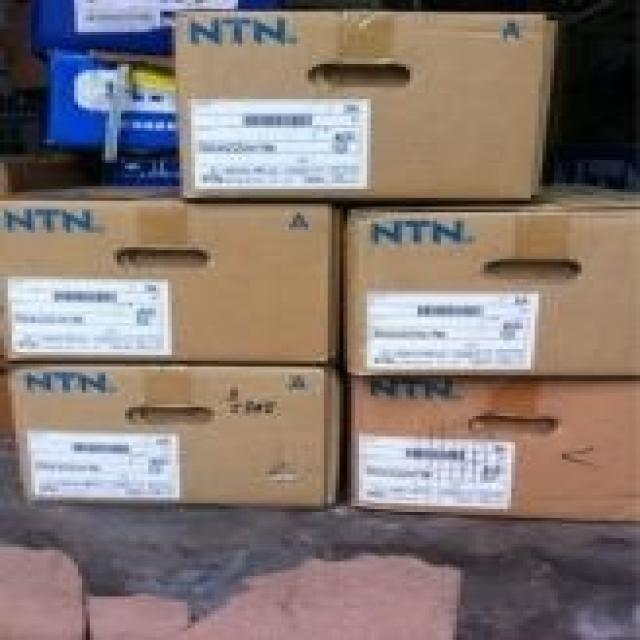box: (174, 10, 564, 204), (0, 175, 343, 362), (339, 175, 636, 376), (4, 362, 343, 504), (342, 366, 636, 521), (30, 2, 277, 59), (44, 55, 174, 152), (0, 147, 96, 198), (96, 153, 176, 185), (582, 152, 621, 184), (549, 153, 579, 179), (622, 151, 636, 189)
